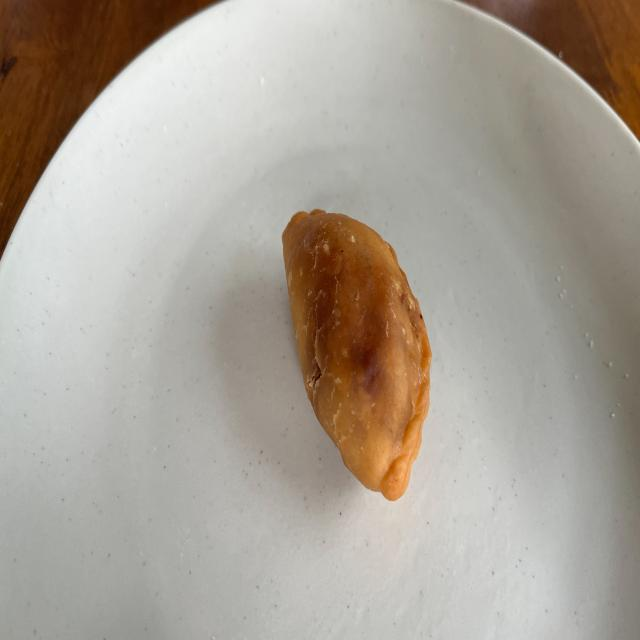karipap: (282, 209, 431, 500)
